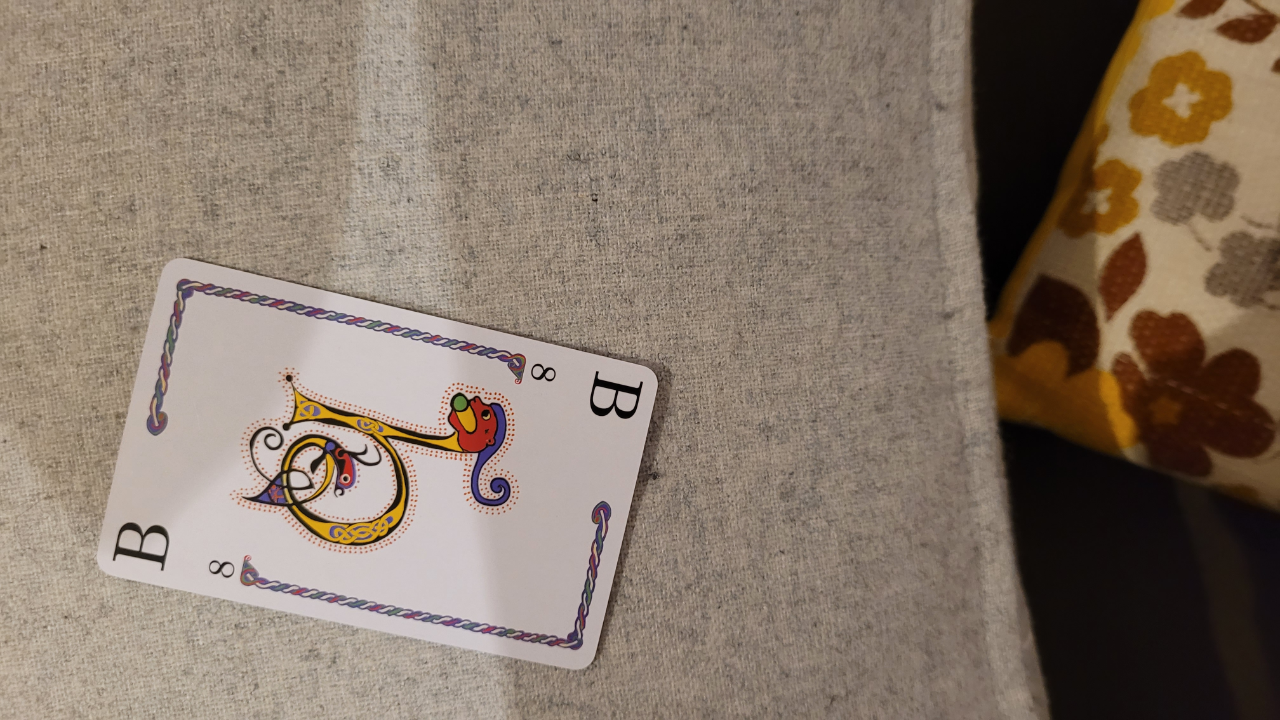quiddler_card: (91, 255, 671, 682)
